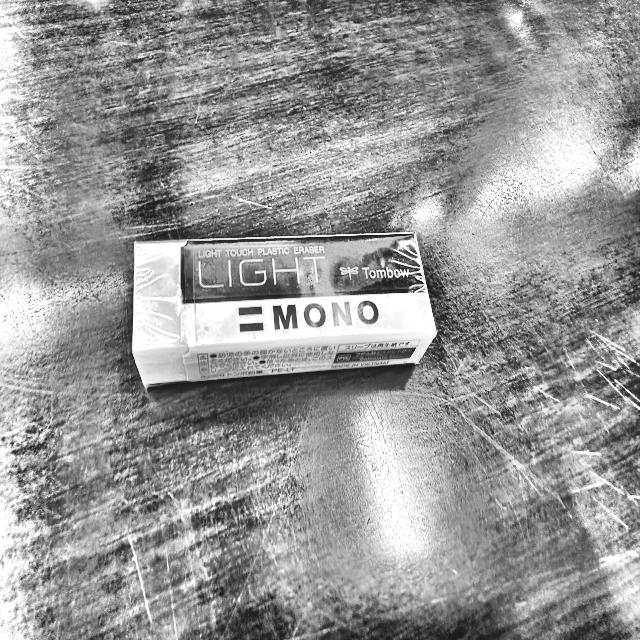eraser: (128, 228, 440, 392)
